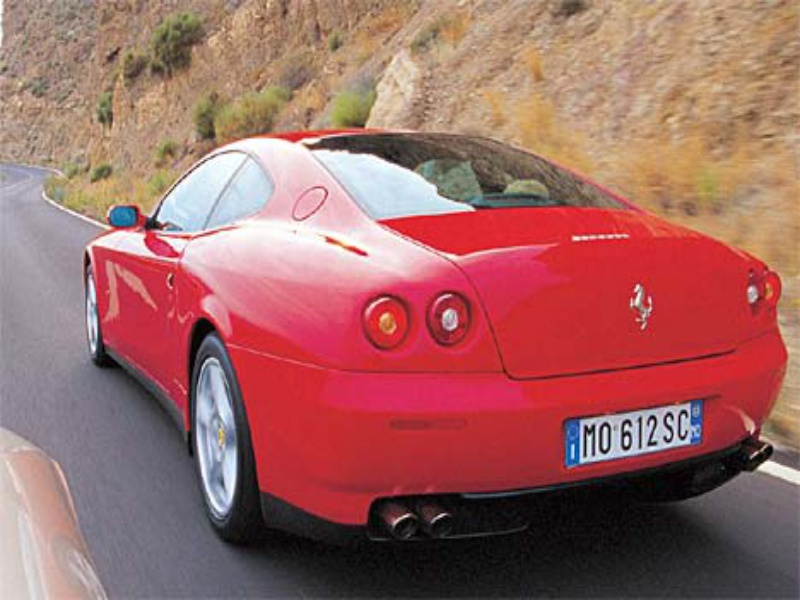licence_plate: (556, 410, 719, 470)
